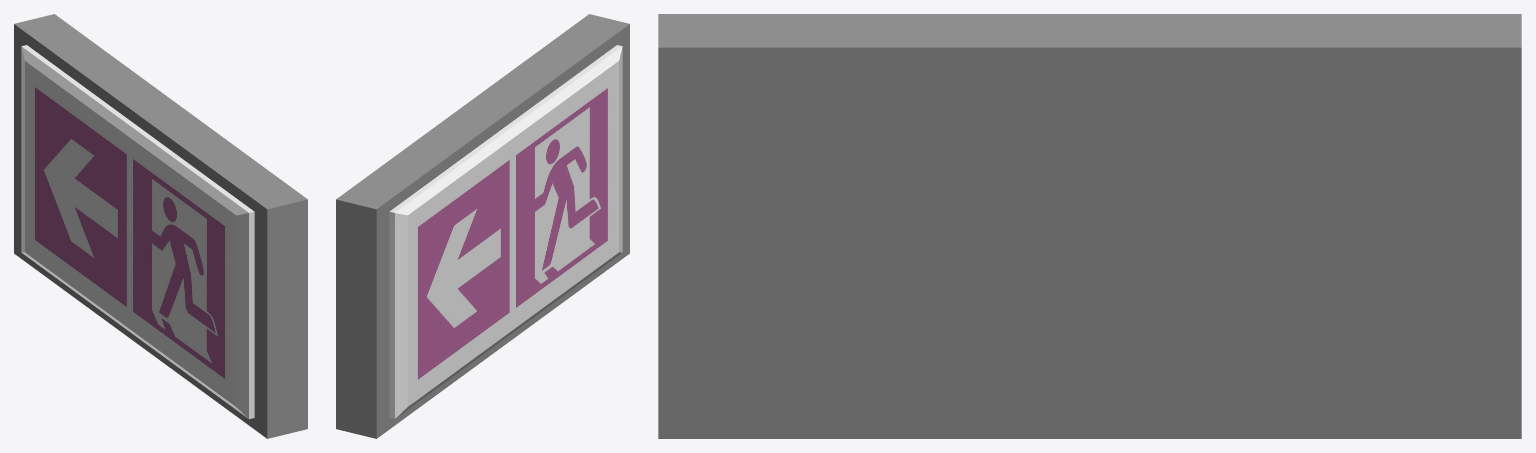
File: ExitSign.fbx
3 views of the same model, side by side, from view 1: azimuth 30°, elevation 25°; view 2: azimuth 150°, elevation 25°; view 3: azimuth 270°, elevation 25° (orthographic). The views are drawn at different scales.
Parts seen in each view (by area): view 1: Cube.038; view 2: Cube.038; view 3: Cube.038.
Boxes of the visible parts, x1=… form: Cube.038: x1=14, y1=14, x2=307, y2=438; Cube.038: x1=336, y1=14, x2=629, y2=438; Cube.038: x1=658, y1=14, x2=1521, y2=438.
Size of the model in its own units: 5.55 by 24 by 48.
